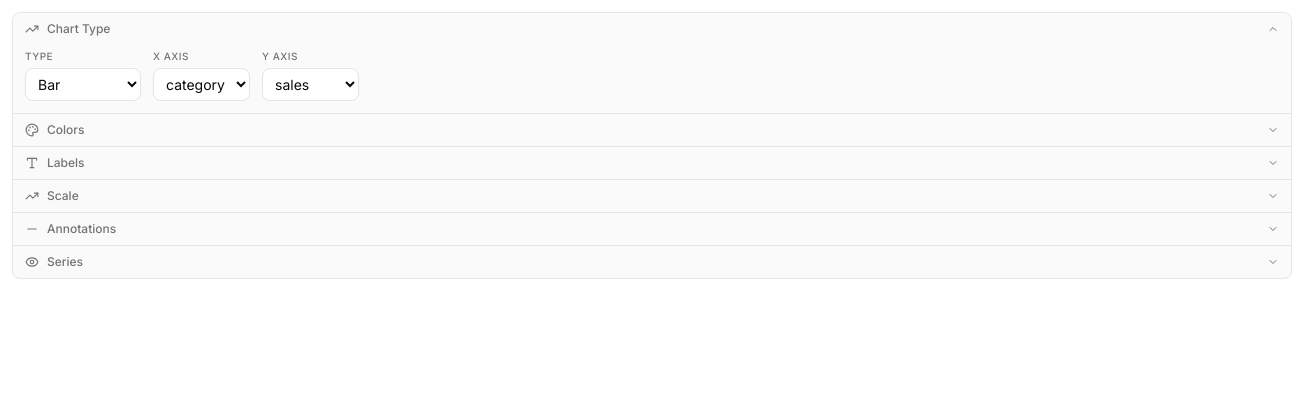
ChartEditor › Color palette selector › renders 7+ preset palettes
// Open the Colors section
Click the button with test id "section-toggle-colors". click: (66, 130)
box: 13,114 -> 1291,146
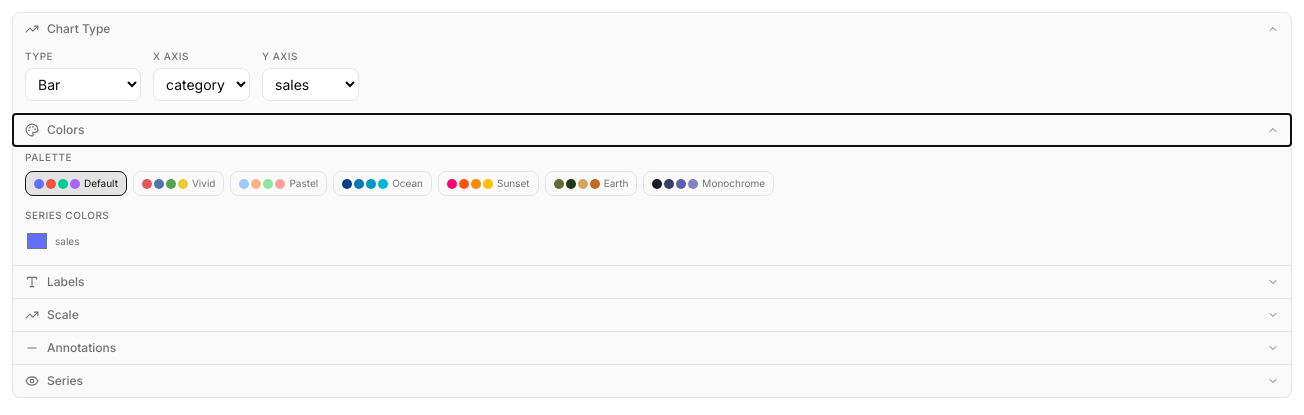
Expected: the element with test id "palette-selector" is shown, 25,171 -> 774,196
Expected: the button with test id "palette-vivid" is shown, 133,171 -> 224,196
Expected: the button with test id "palette-ocean" is shown, 333,171 -> 432,196
